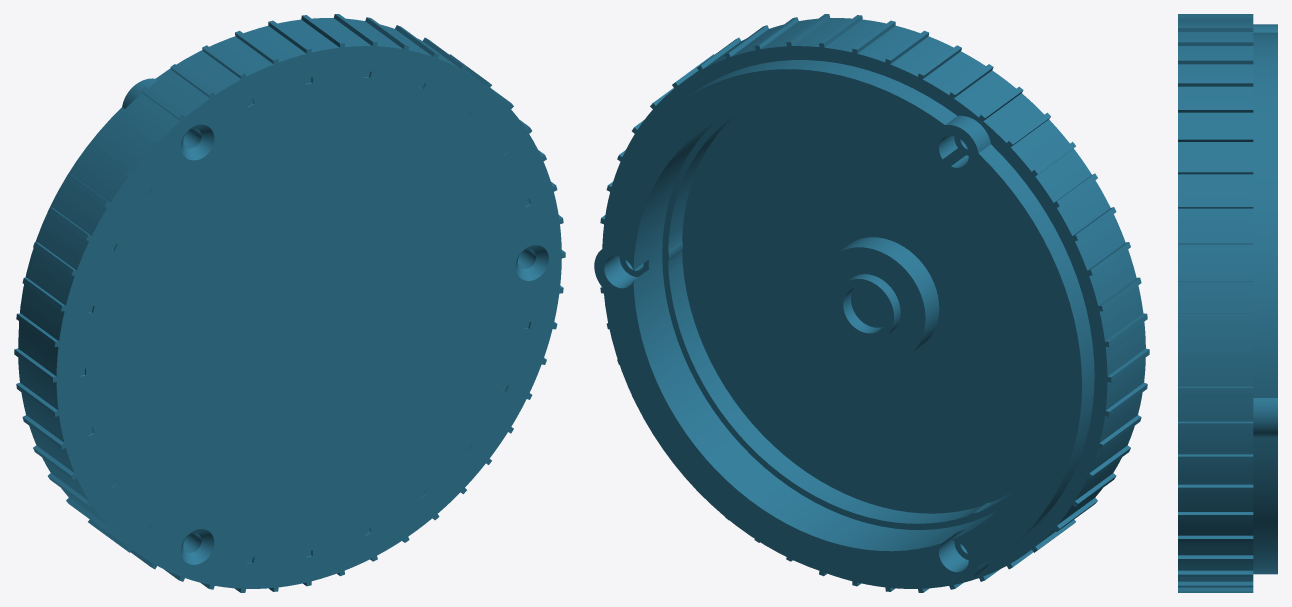
Rendered from Cap_circular.obj.
The picture shows the model from 3 angles, left to right: view 1: azimuth 30°, elevation 25°; view 2: azimuth 150°, elevation 25°; view 3: azimuth 270°, elevation 25°; orthographic projection. The views are drawn at different scales.
Parts seen in each view (by area): view 1: Cap_circular; view 2: Cap_circular; view 3: Cap_circular.
Boxes of the visible parts, bbox=[...] form: Cap_circular: bbox=[14, 14, 565, 592]; Cap_circular: bbox=[594, 14, 1149, 592]; Cap_circular: bbox=[1178, 14, 1277, 592].
Bounding box in the file's own units: 61.6 × 61.6 × 10.6.
